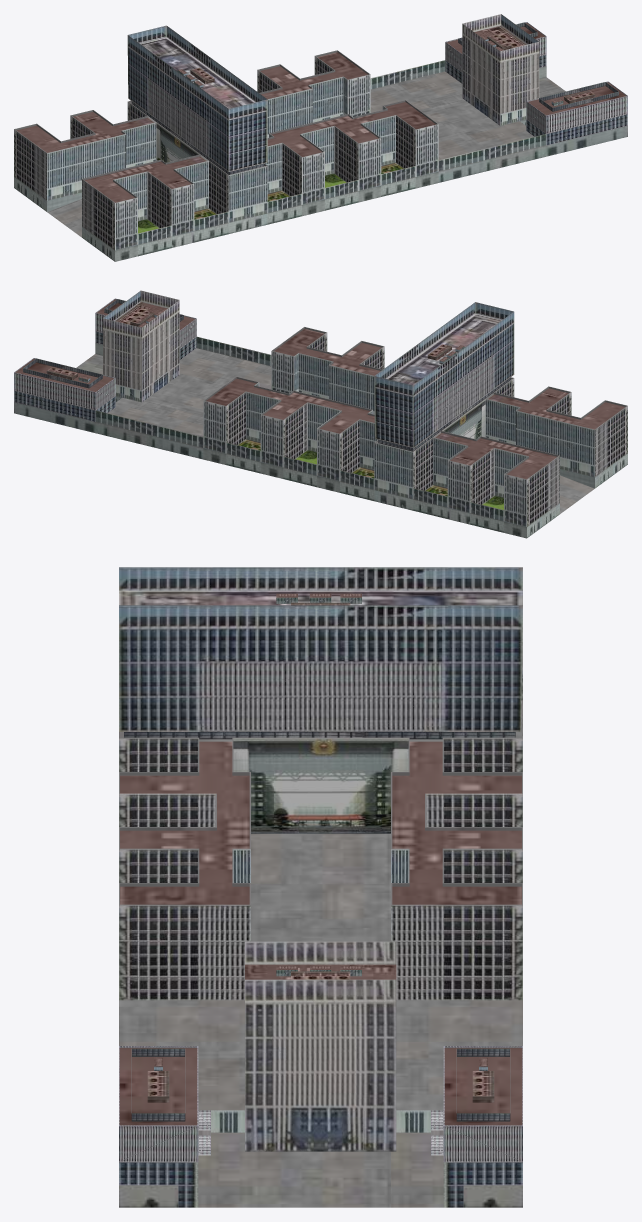
3 views of the same model, one above another, from view 1: azimuth 30°, elevation 25°; view 2: azimuth 150°, elevation 25°; view 3: azimuth 270°, elevation 25° (orthographic). The views are drawn at different scales.
Parts seen in each view (by area): view 1: 572_BoCongAn; view 2: 572_BoCongAn; view 3: 572_BoCongAn.
Boxes of the visible parts, <box> form: 572_BoCongAn: <box>14,14,627,261</box>; 572_BoCongAn: <box>14,290,627,538</box>; 572_BoCongAn: <box>119,567,522,1207</box>.
Bounding box in the file's own units: 336 × 78.4 × 115.
Materials: 1 (1 with a texture image).
